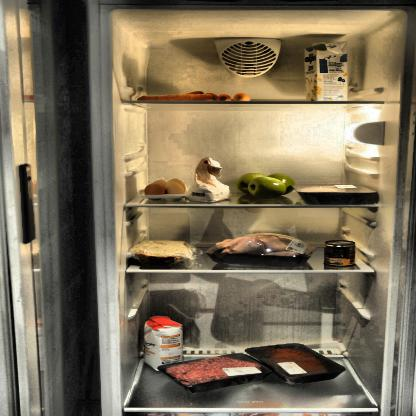apple: (238, 173, 296, 199)
beef: (259, 346, 342, 374)
carrot: (136, 89, 253, 104)
chicken: (211, 231, 308, 264)
corn: (323, 239, 356, 270)
eggs: (146, 176, 184, 198)
ground_beef: (165, 356, 258, 388)
milk: (304, 42, 354, 104)
